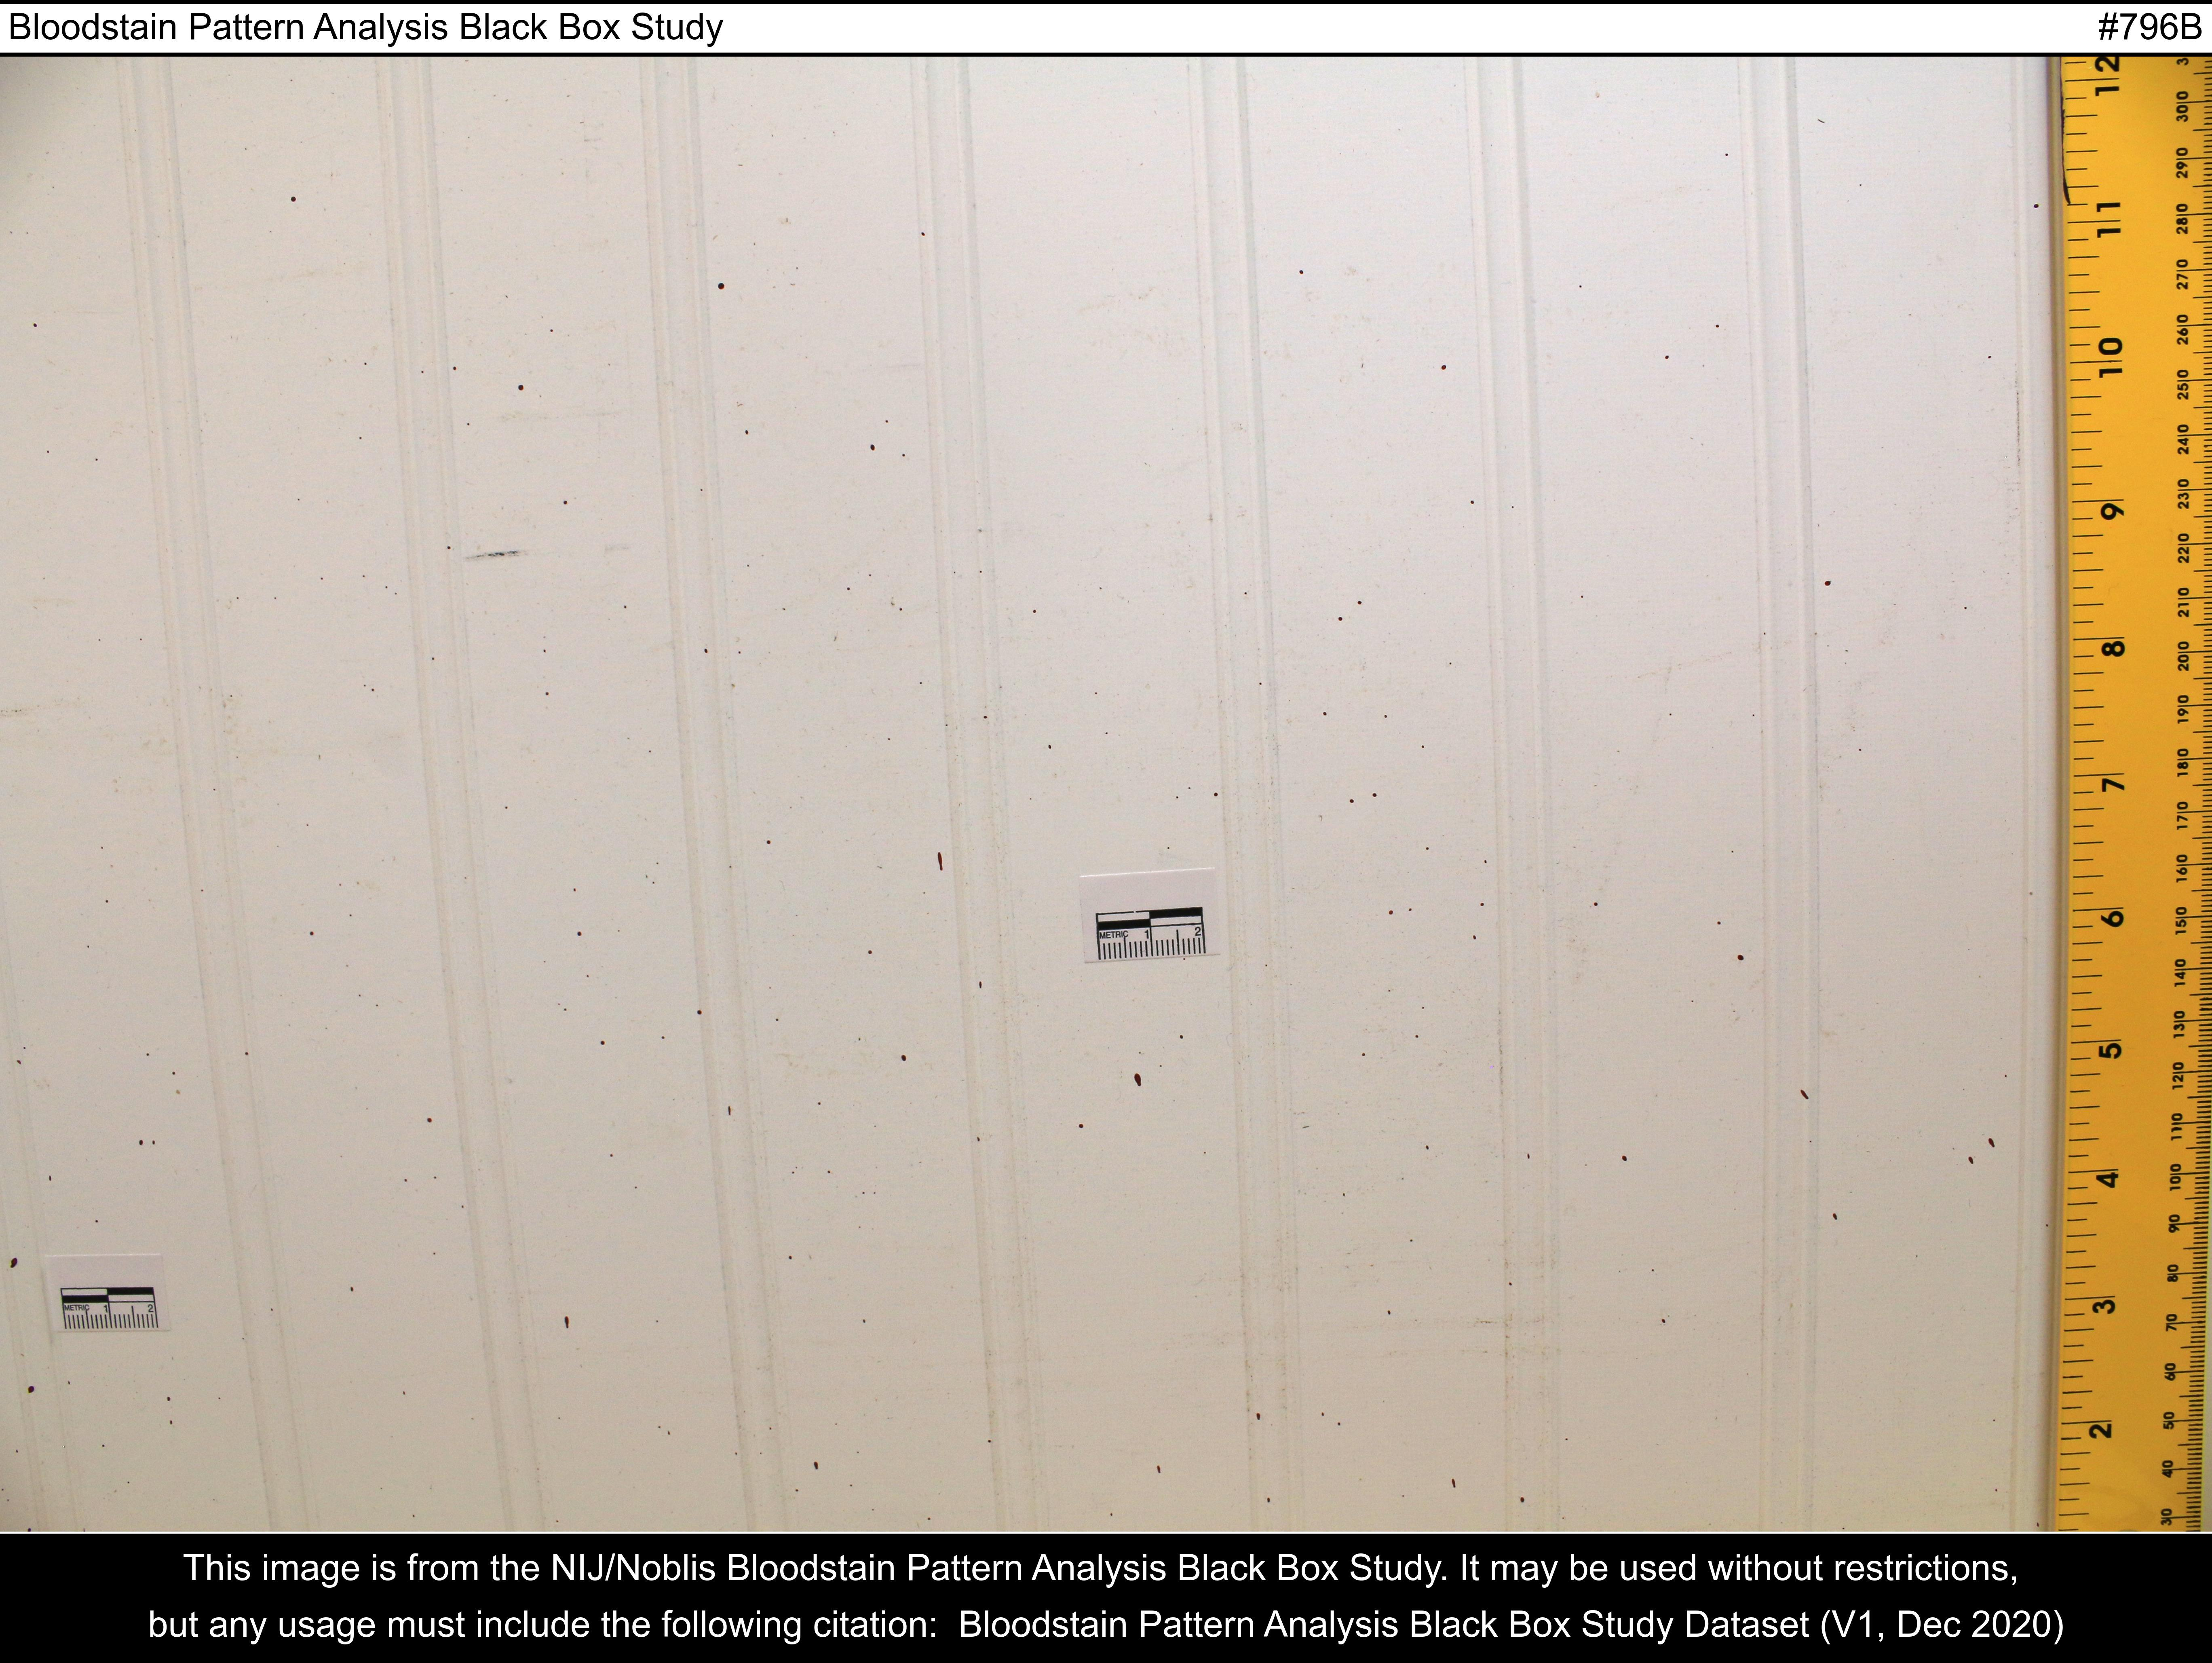Transfer: (835, 818, 1035, 1142)
